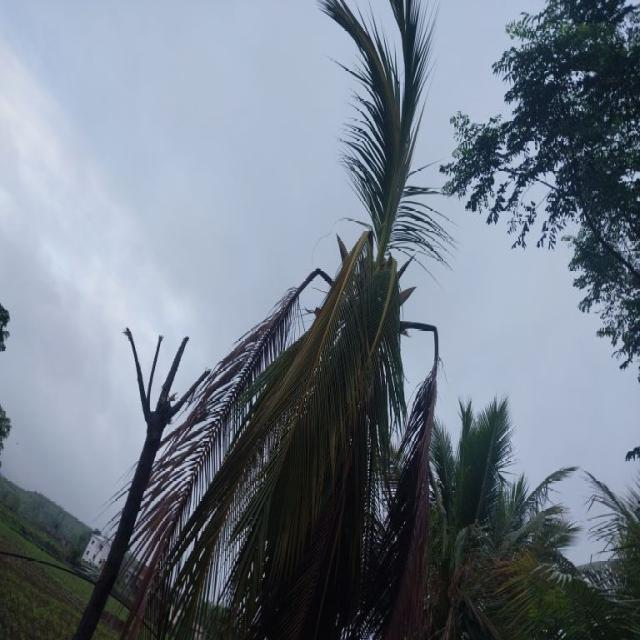bud root dropping: (126, 0, 449, 638)
